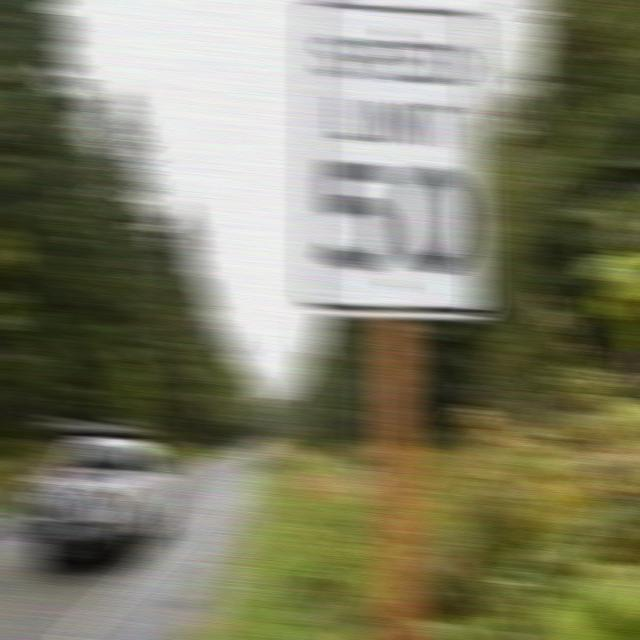speedLimit50: (304, 3, 492, 315)
